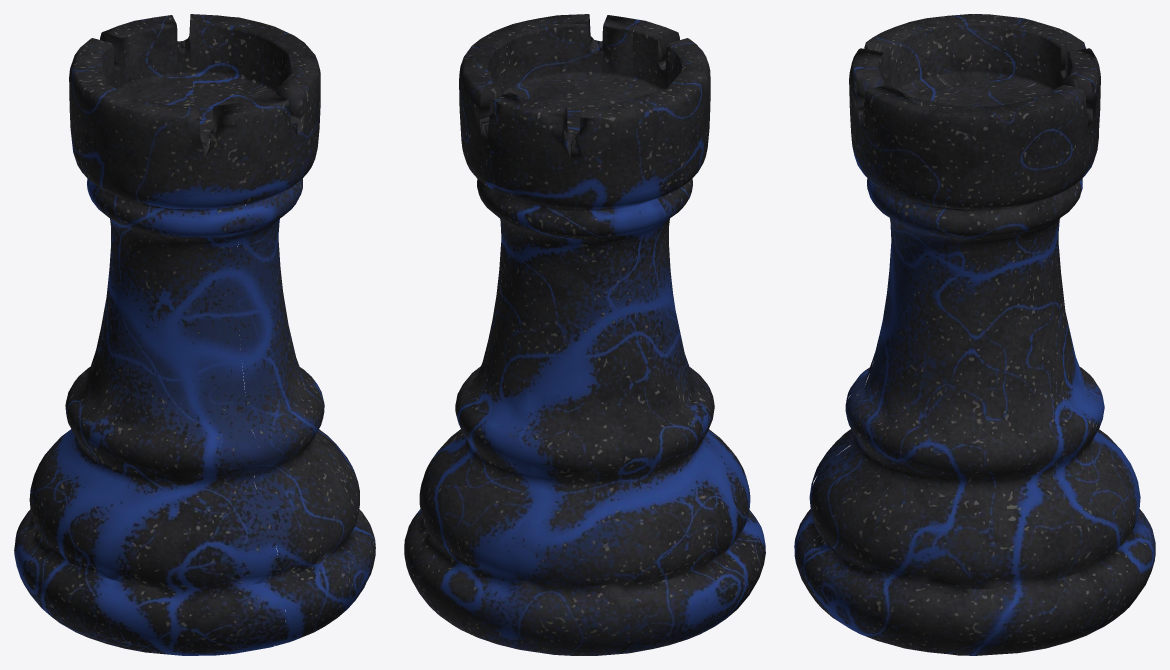
The model's file is rook-black.glb.
3 renders of one model, left to right at view 1: azimuth 30°, elevation 25°; view 2: azimuth 150°, elevation 25°; view 3: azimuth 270°, elevation 25°, orthographic.
Parts seen in each view (by area): view 1: Cobalt Vein black rook; view 2: Cobalt Vein black rook; view 3: Cobalt Vein black rook.
Part boxes in pixels (x1,y1,x2,y2): Cobalt Vein black rook: (14,14,375,655); Cobalt Vein black rook: (404,14,765,655); Cobalt Vein black rook: (794,14,1155,655).
Bounding box in the file's own units: 0.5949 × 0.96 × 0.5961.
1 material, 1 textured.
